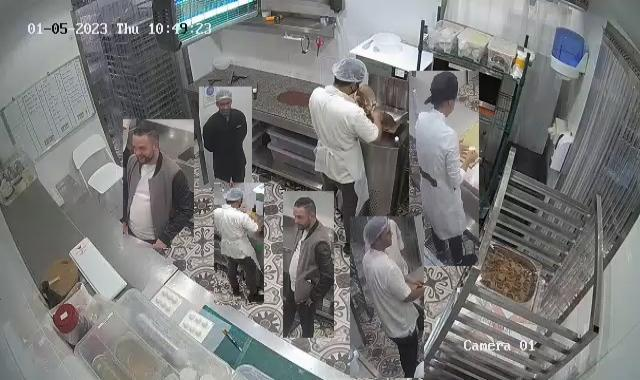hairnet: (331, 58, 367, 94), (365, 212, 392, 251), (212, 89, 234, 113), (223, 188, 247, 210)
no_hairnet: (430, 70, 460, 114), (129, 123, 161, 164), (292, 196, 316, 225)
